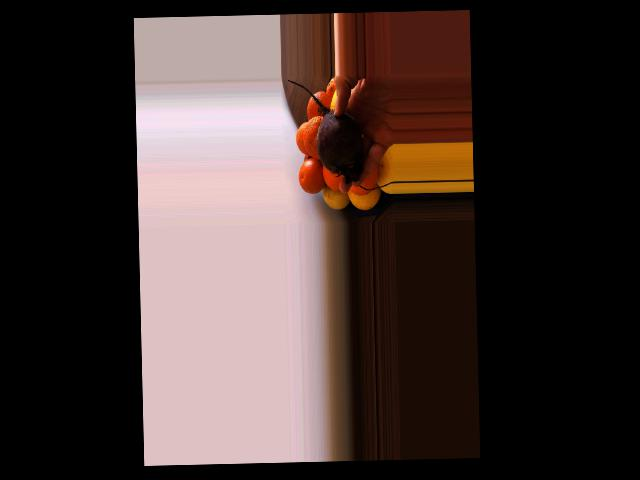beet: (288, 78, 363, 183)
